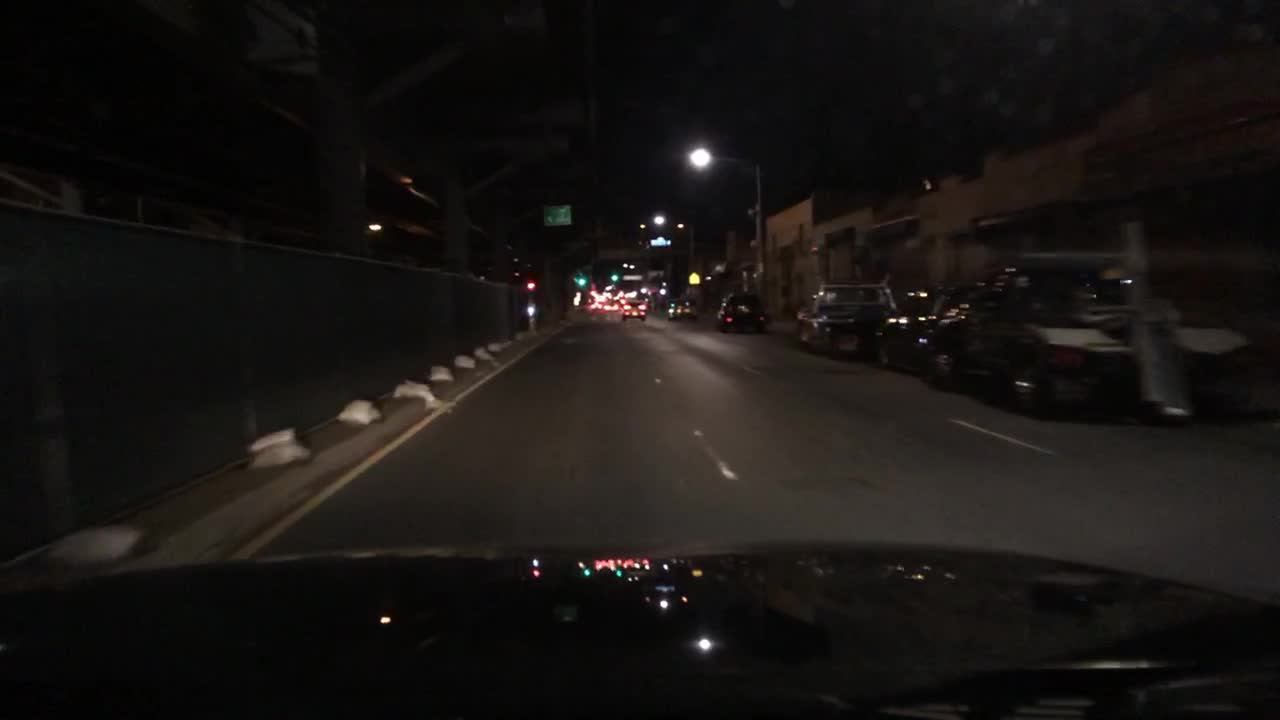car: (928, 244, 1251, 420), (874, 280, 973, 377), (794, 280, 892, 353), (715, 293, 766, 335), (667, 296, 697, 322), (619, 301, 648, 323), (640, 278, 664, 302), (601, 298, 622, 311), (616, 287, 637, 298), (583, 301, 604, 311), (598, 290, 612, 299), (586, 296, 606, 302)
traffic light: (574, 274, 586, 289), (523, 278, 535, 293), (525, 302, 535, 316), (607, 272, 619, 283)
traffic sign: (543, 206, 571, 227), (686, 272, 701, 287), (621, 272, 640, 281)
